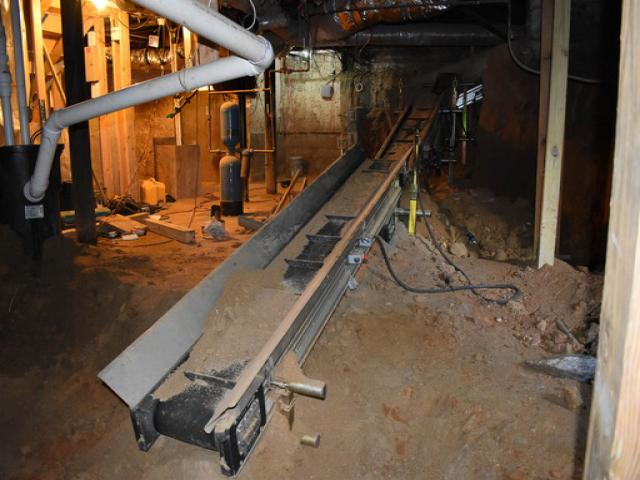conveyor: (95, 74, 459, 476)
